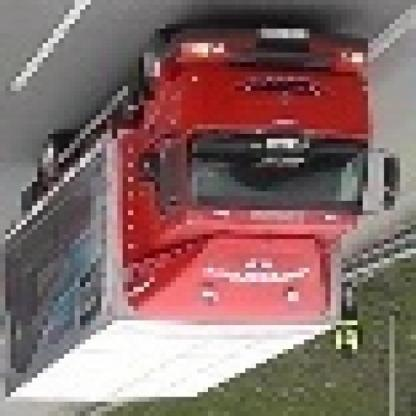truck: (1, 30, 396, 407)
